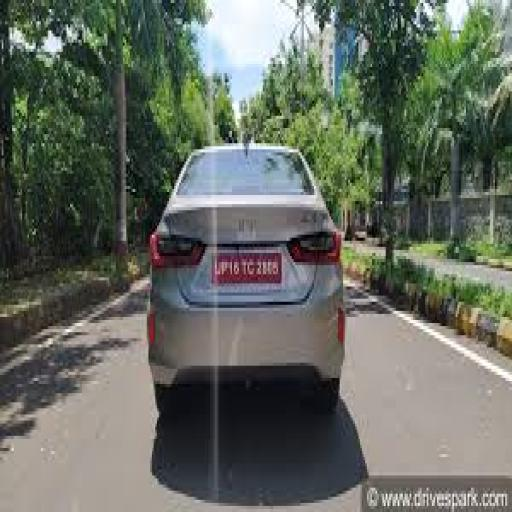License: (209, 245, 286, 287)
